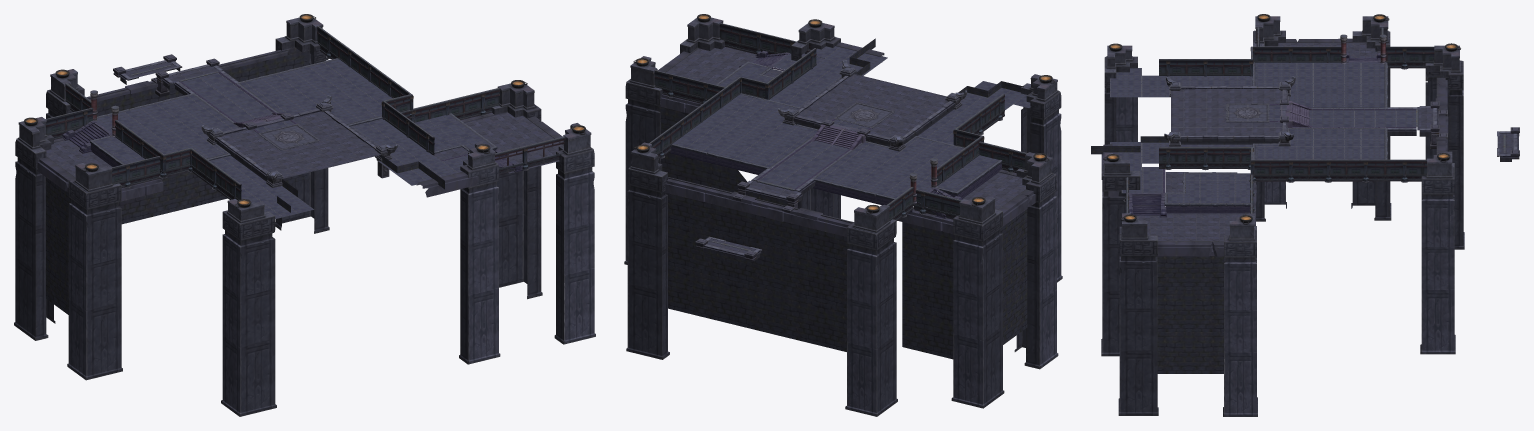
File: 5007_Terrain_03.fbx
3 views of the same model, side by side, from view 1: azimuth 30°, elevation 25°; view 2: azimuth 150°, elevation 25°; view 3: azimuth 270°, elevation 25° (orthographic). The views are drawn at different scales.
Visible parts, largest first — view 1: 5007_Terrain_03; view 2: 5007_Terrain_03; view 3: 5007_Terrain_03.
Boxes of the visible parts, bbox=[...] form: 5007_Terrain_03: bbox=[14, 14, 595, 416]; 5007_Terrain_03: bbox=[624, 14, 1062, 416]; 5007_Terrain_03: bbox=[1091, 14, 1519, 416].
Bounding box in the file's own units: 42191 × 20967 × 37918.
